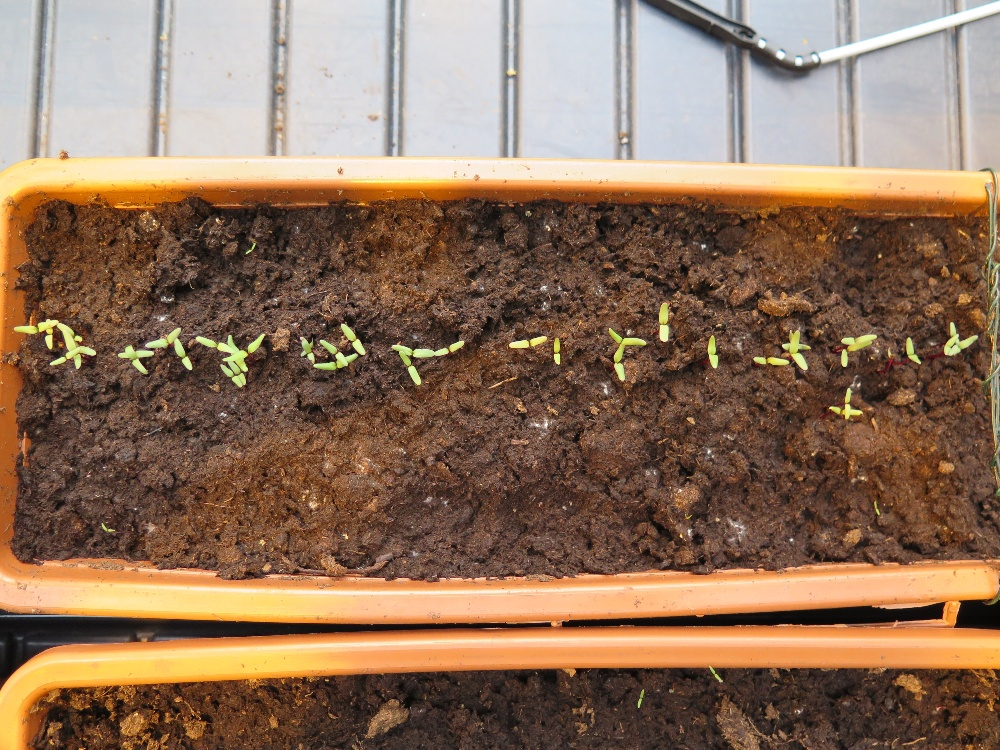crop: (944, 321, 977, 368), (396, 348, 428, 389), (224, 332, 269, 361), (339, 321, 369, 357), (195, 330, 232, 358), (60, 329, 84, 372), (140, 327, 183, 351), (215, 360, 251, 388), (388, 340, 435, 361), (836, 339, 868, 369), (606, 326, 648, 347), (789, 326, 808, 372), (313, 352, 362, 369), (170, 338, 196, 370), (124, 343, 148, 377), (48, 346, 83, 368), (748, 350, 792, 367), (610, 342, 629, 381), (13, 319, 59, 335), (321, 338, 347, 366), (826, 401, 864, 419), (435, 339, 468, 357), (113, 348, 158, 361), (507, 335, 548, 349), (41, 314, 56, 352), (840, 332, 880, 346), (658, 299, 670, 343), (905, 335, 922, 366), (706, 332, 719, 371), (844, 386, 853, 423), (551, 336, 561, 368)
weed: (243, 239, 256, 257), (871, 499, 881, 519), (100, 522, 116, 533)
